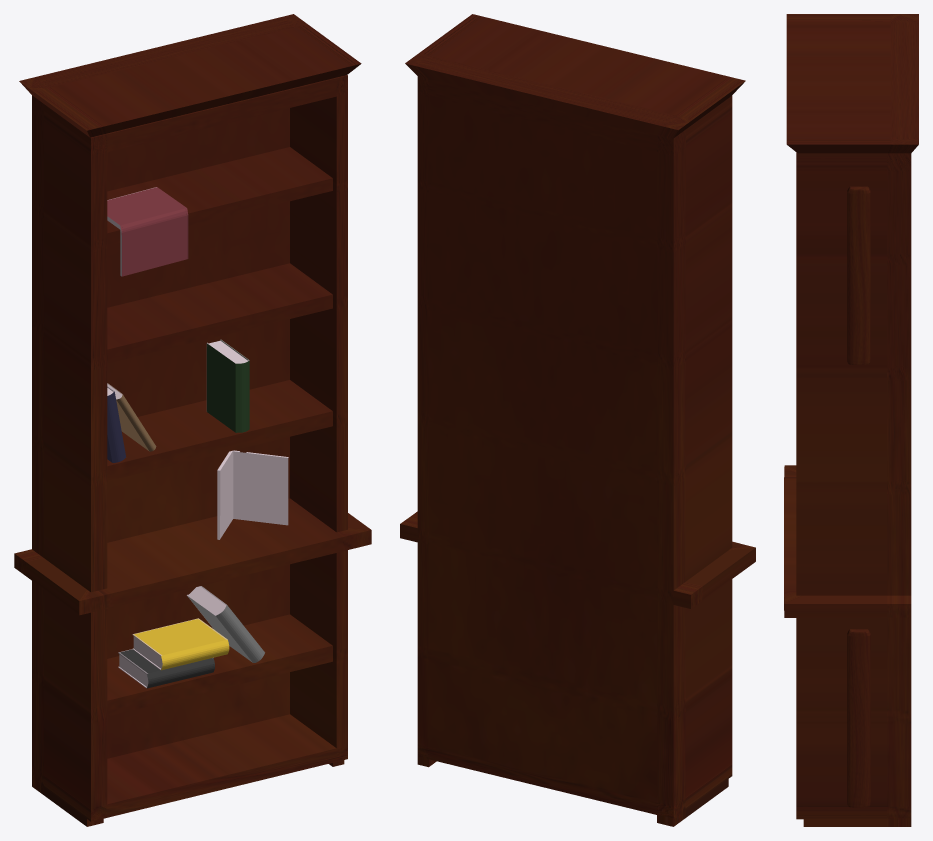
The model's file is Shelf.fbx.
3 renders of one model, left to right at view 1: azimuth 30°, elevation 25°; view 2: azimuth 150°, elevation 25°; view 3: azimuth 270°, elevation 25°, orthographic. The views are drawn at different scales.
Visible parts, largest first — view 1: Cube.008, Book 3, Book 5, Book 4, Book 7, Book 8, Book 6, Book 1, Book 2; view 2: Cube.008; view 3: Cube.008, Cube.010, Cube.009.
Part boxes in pixels (x1,y1,x2,y2): Cube.008: (14,14,371,826); Book 3: (107,187,188,276); Book 5: (217,450,288,539); Book 4: (206,339,249,432); Book 7: (132,618,229,670); Book 8: (187,586,264,662); Book 6: (118,649,214,688); Book 1: (107,383,156,451); Book 2: (107,386,125,462); Cube.008: (400,14,755,826); Cube.008: (784,14,918,826); Cube.010: (847,629,870,807); Cube.009: (847,186,870,364).
Bounding box in the file's own units: 381 × 877 × 156.
